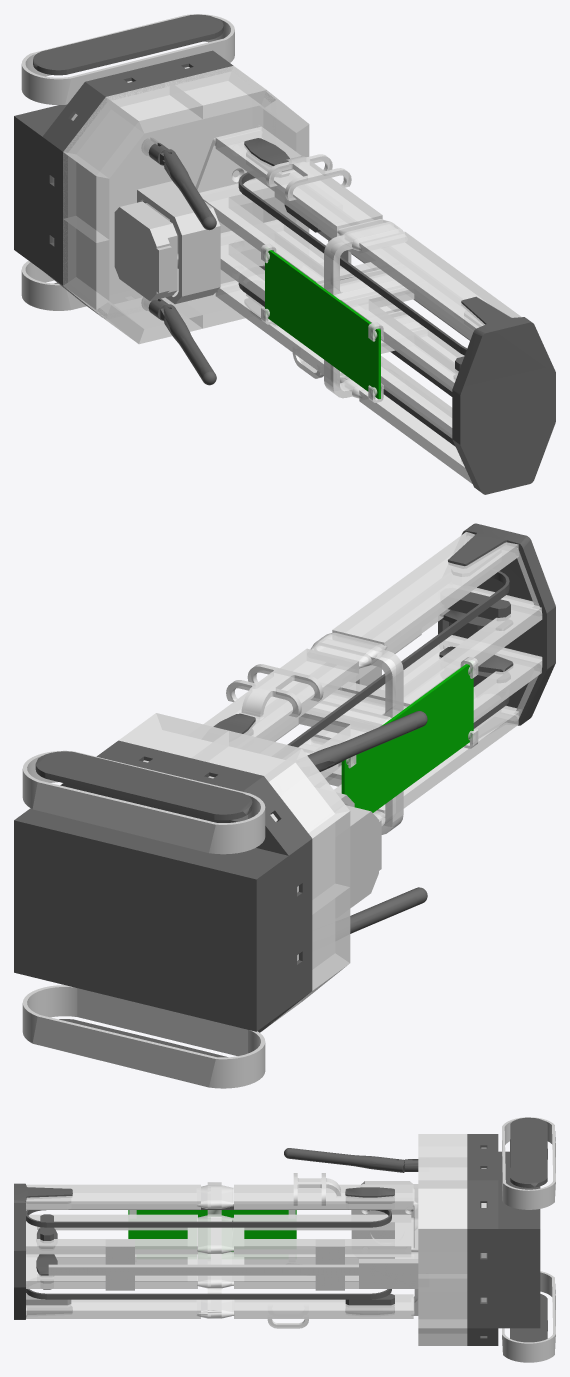
Rendered from builderbot.glb.
3 views of the same model, one above another, from view 1: azimuth 30°, elevation 25°; view 2: azimuth 150°, elevation 25°; view 3: azimuth 270°, elevation 25° (orthographic). The views are drawn at different scales.
Visible parts, largest first — view 1: Node; view 2: Node; view 3: Node.
Boxes of the visible parts, <box> form: Node: <box>14,14,555,494</box>; Node: <box>14,523,555,1088</box>; Node: <box>14,1117,555,1362</box>.
Size of the model in its own units: 0.13 by 0.14 by 0.3858.
